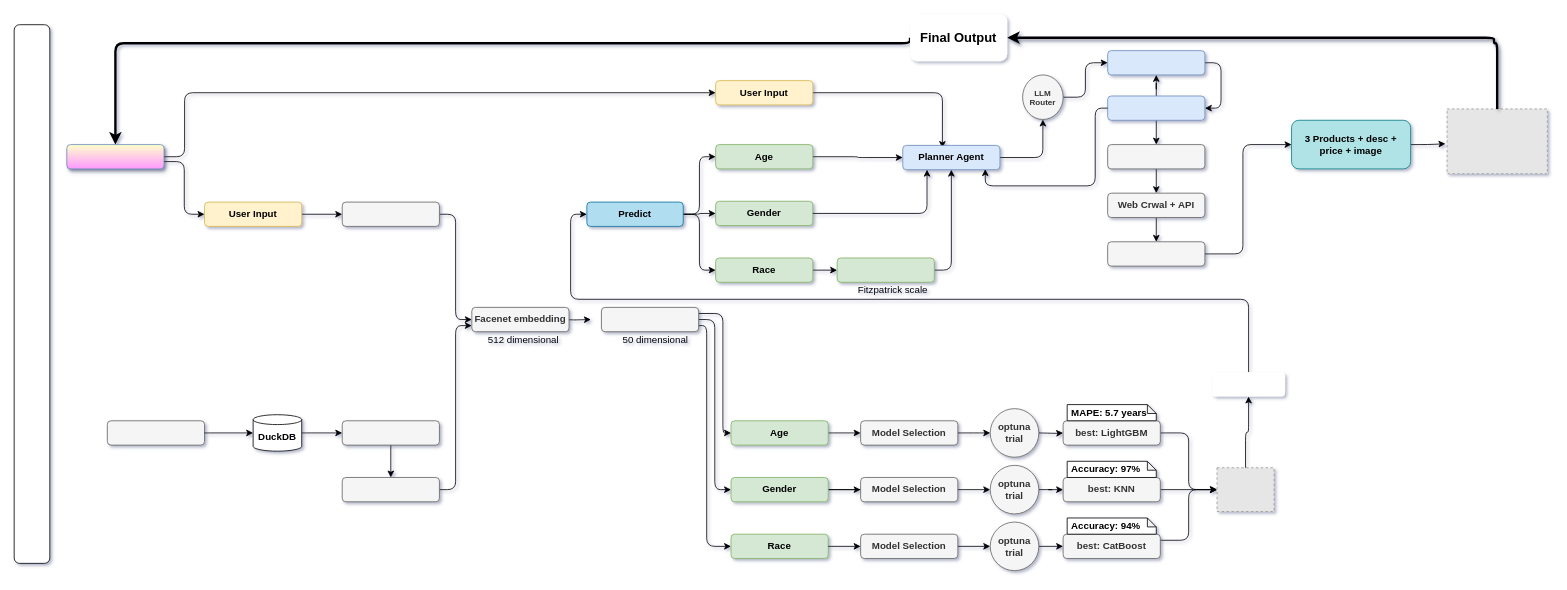
This 1567x590 diagram has some shape labels left out. Grey dashed boxes stand in for pictures. The shapes that lost their labels are listed below. From the top down, each one's centre as x and y in pixels, then its label:
At point (1156, 62): "Researcher Agent".
At point (1156, 107): "Safety Gate".
At point (116, 158): "Steamlit UI".
At point (1156, 156): "Web Search".
At point (390, 213): "Face Crop (MTCNN)".
At point (885, 269): "Skin Tone".
At point (1156, 253): "Image Fetch".
At point (31, 293): "I N F E R E N C E T R A I N I N G".
At point (650, 319): "Embedding Compression".
At point (1248, 384): "Model Files".
At point (156, 432): "UTK Face Data".
At point (390, 432): "Data Cleaning".
At point (390, 489): "Fix Label Issue".
